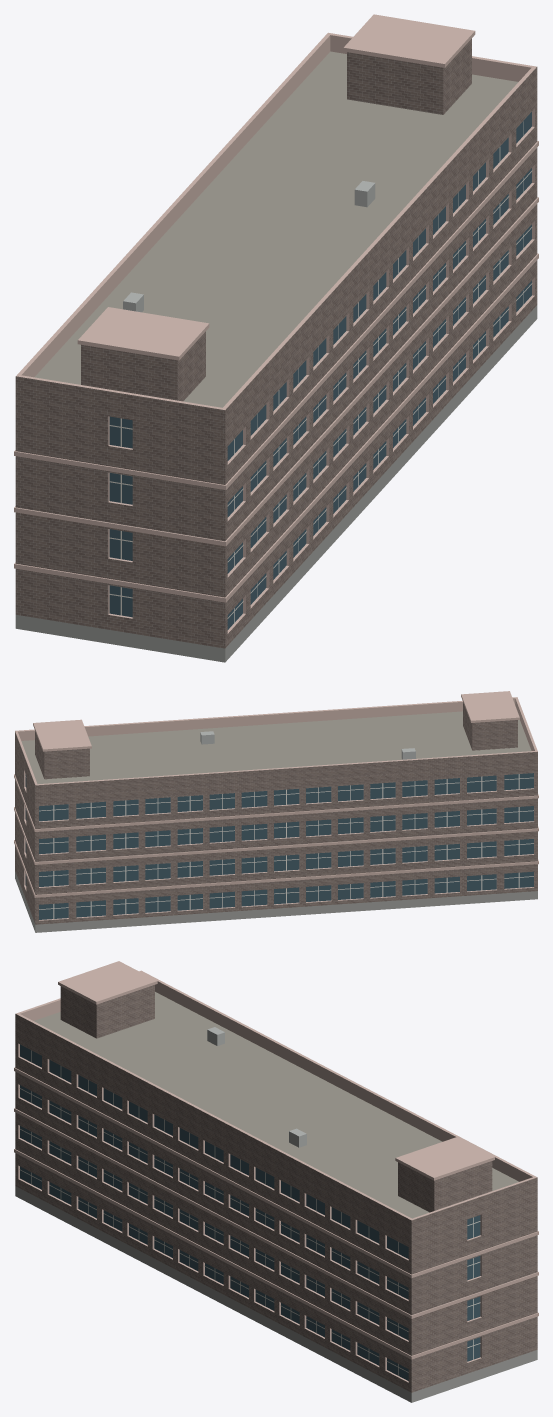
3 views of the same model, one above another, from view 1: azimuth 30°, elevation 25°; view 2: azimuth 150°, elevation 25°; view 3: azimuth 270°, elevation 25° (orthographic). The views are drawn at different scales.
Visible parts, largest first — view 1: wing2__brick, wing2__roof, wing2__trim-concrete, wing2__wall-plaster, wing2__glass, wing2__base-stone, wing2__frame, wing2__equipment; view 2: wing2__wall-plaster, wing2__glass, wing2__brick, wing2__trim-concrete, wing2__roof, wing2__base-stone, wing2__frame, wing2__equipment; view 3: wing2__brick, wing2__wall-plaster, wing2__roof, wing2__trim-concrete, wing2__glass, wing2__base-stone, wing2__frame, wing2__equipment.
Boxes of the visible parts, <box> form: wing2__brick: <box>15,38,537,648</box>; wing2__roof: <box>35,51,518,407</box>; wing2__trim-concrete: <box>14,14,538,633</box>; wing2__wall-plaster: <box>271,118,490,597</box>; wing2__glass: <box>109,112,531,629</box>; wing2__base-stone: <box>15,305,537,662</box>; wing2__frame: <box>109,121,532,623</box>; wing2__equipment: <box>123,181,375,312</box>; wing2__wall-plaster: <box>110,757,463,919</box>; wing2__glass: <box>25,773,533,919</box>; wing2__brick: <box>15,702,537,924</box>; wing2__trim-concrete: <box>14,691,538,920</box>; wing2__roof: <box>21,711,531,784</box>; wing2__base-stone: <box>15,871,537,932</box>; wing2__frame: <box>25,774,533,918</box>; wing2__equipment: <box>200,731,415,759</box>; wing2__brick: <box>15,985,537,1392</box>; wing2__wall-plaster: <box>74,1044,352,1361</box>; wing2__roof: <box>34,992,518,1218</box>; wing2__trim-concrete: <box>14,961,538,1382</box>; wing2__glass: <box>20,1044,480,1380</box>; wing2__base-stone: <box>15,1186,537,1402</box>; wing2__frame: <box>19,1050,480,1375</box>; wing2__equipment: <box>207,1027,306,1147</box>.
Size of the model in its own units: 47.66 by 18.45 by 42.11.
Materials: 8 (2 with a texture image).
